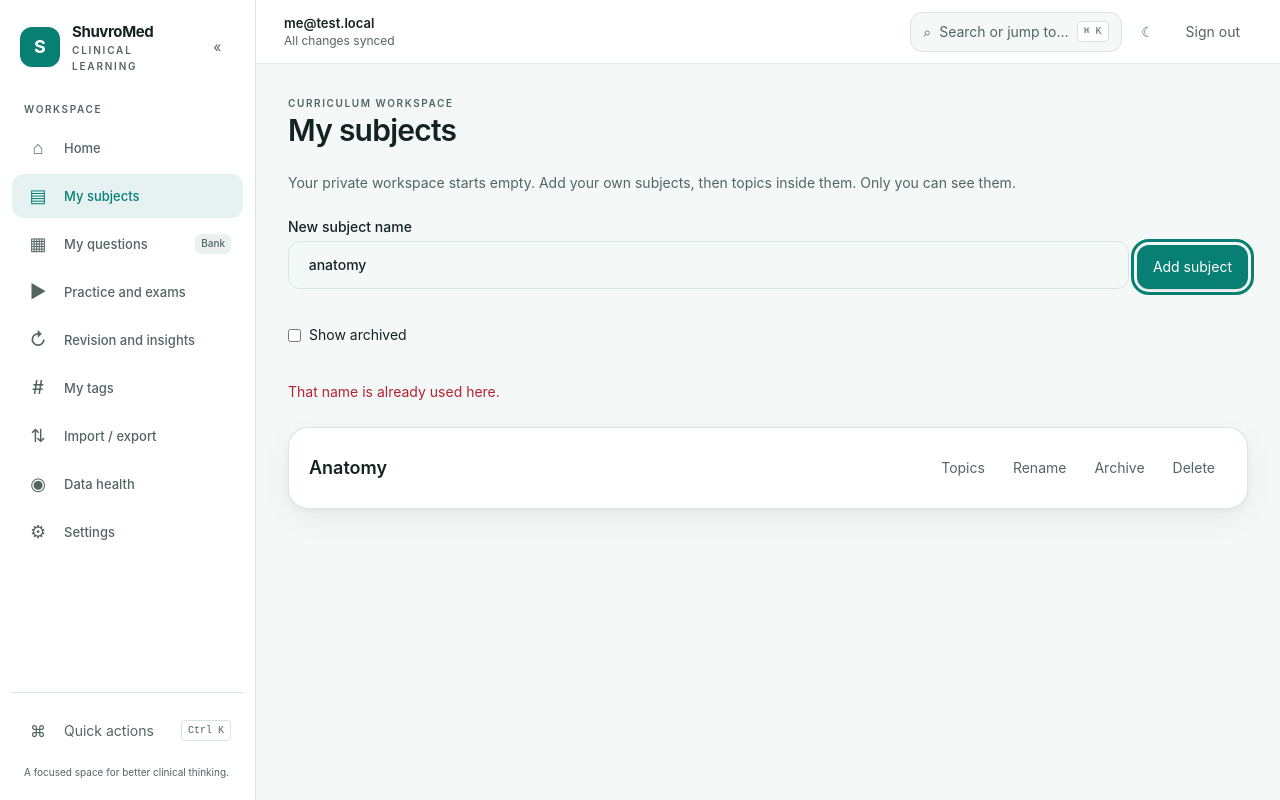
My subjects page › adds, renames, archives and deletes a subject; rejects duplicates
This screenshot has width=1280, height=800.
Earlier steps of the test are not shown.
Expected: the message "That name is already used here." is shown, [288,383,500,400]
Click the button with aria-label "Rename Anatomy" at coordinates (1040, 468), box [1001,448,1078,488]
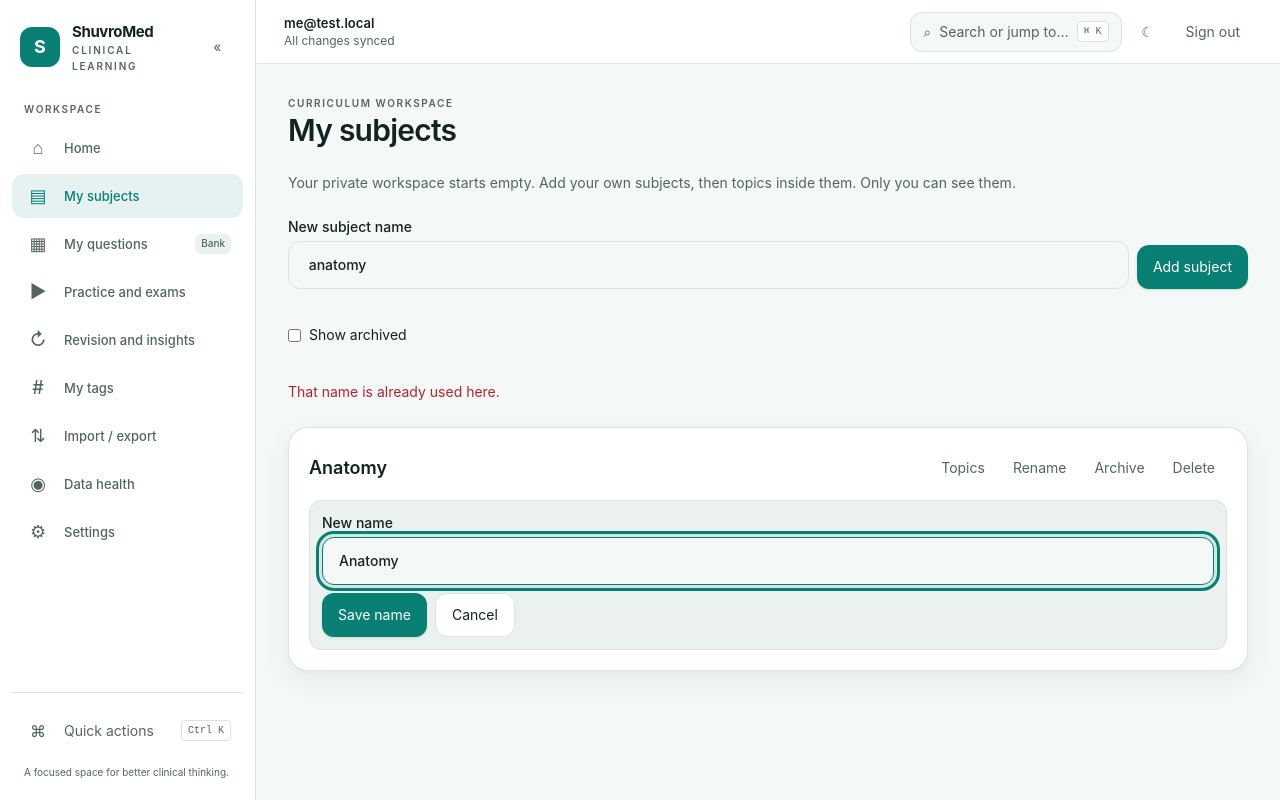
Replace the text in the field labelled "New name" with "Gross Anatomy" at coordinates (768, 561), box [322,537,1214,585]
Click the button "Save name" at coordinates (374, 615), box [322,593,427,637]
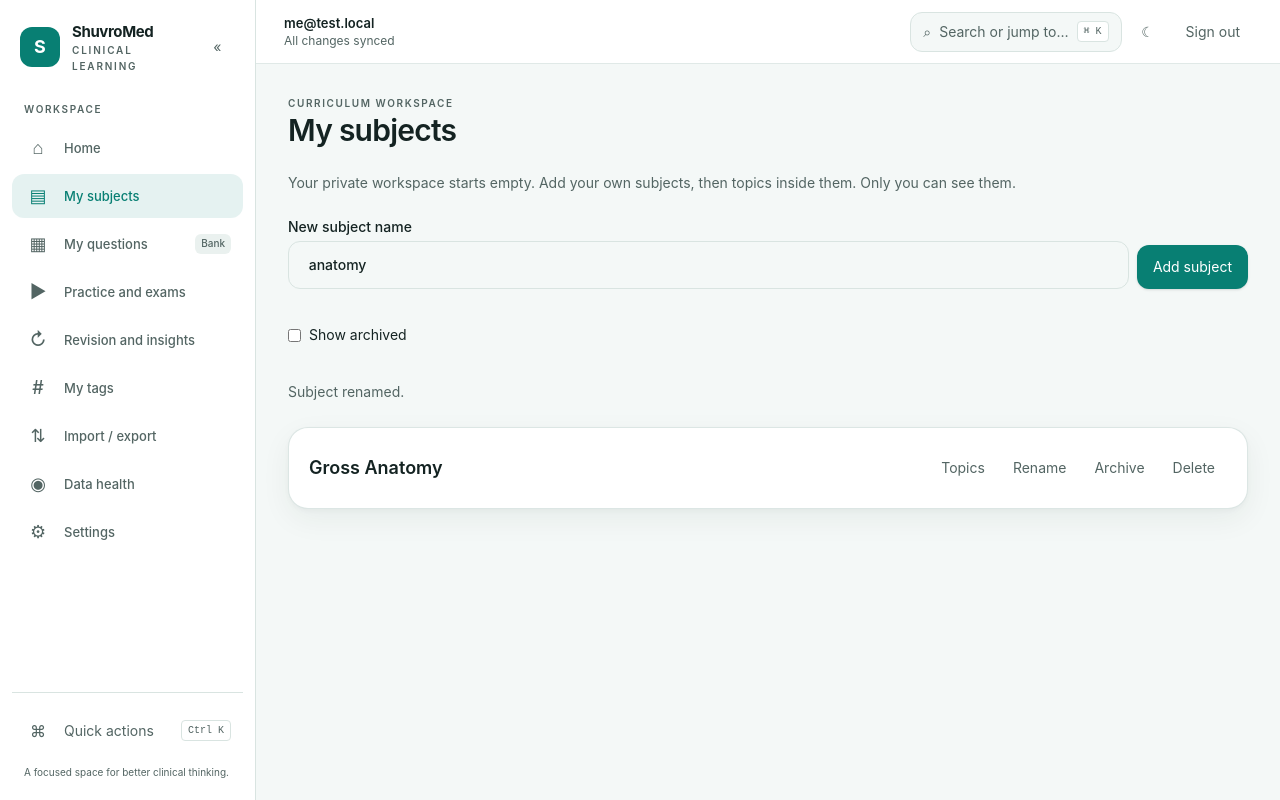
Expected: the heading "Gross Anatomy" is shown, [309,454,443,482]
Click the button with aria-label "Archive Gross Anatomy" at coordinates (1119, 468), box [1082,448,1156,488]
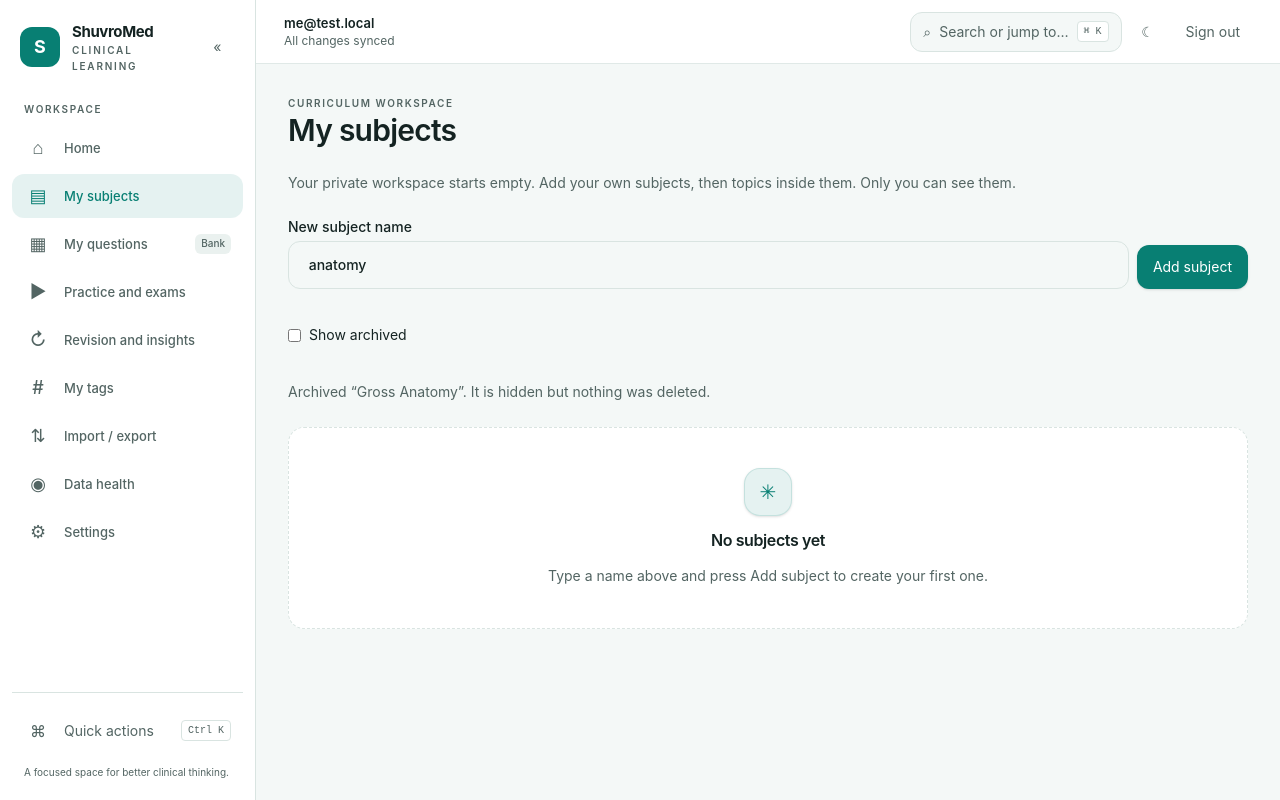
Click the checkbox labelled "Show archived" at coordinates (294, 335), box [288,329,301,342]
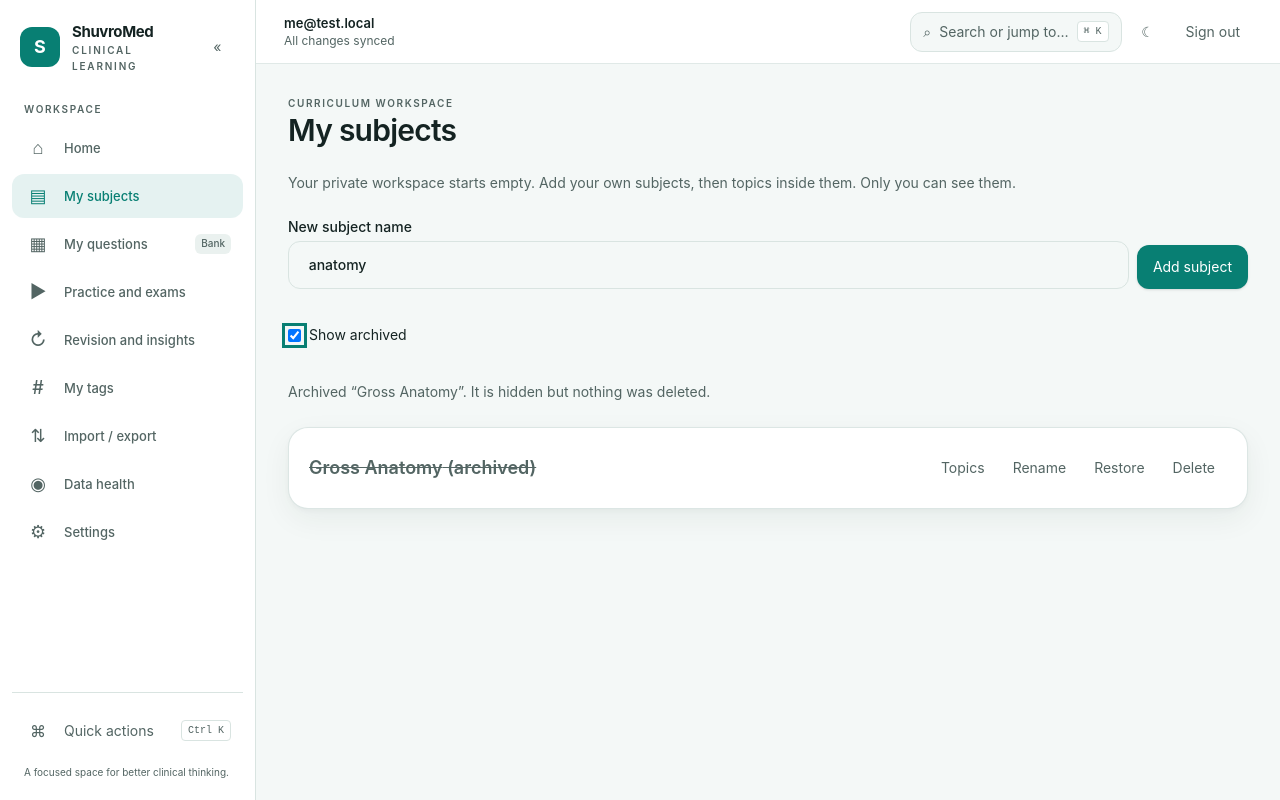
Expected: the heading "Gross Anatomy (archived)" is shown, [309,454,536,482]
Click the button with aria-label "Delete Gross Anatomy" at coordinates (1194, 468), box [1161,448,1227,488]
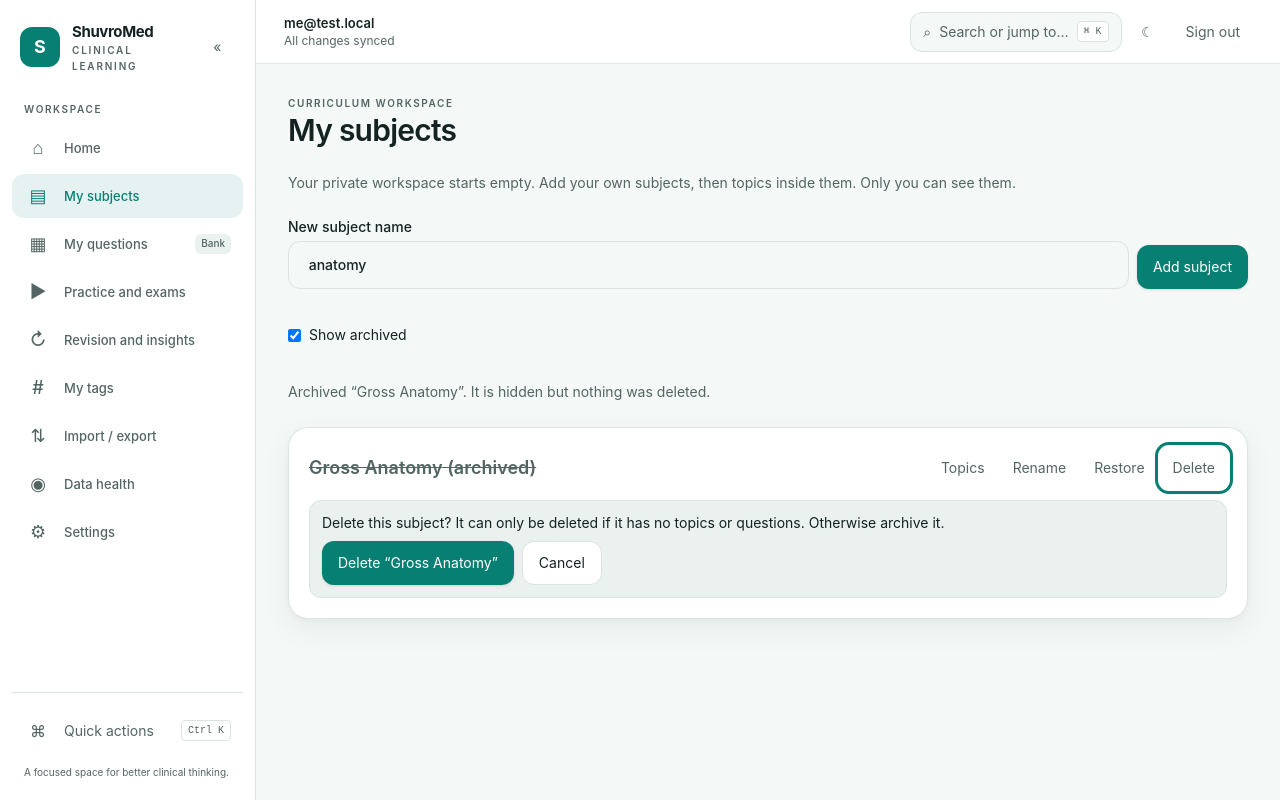
Click the button "Delete “Gross Anatomy”" at coordinates (418, 563), box [322,541,514,585]
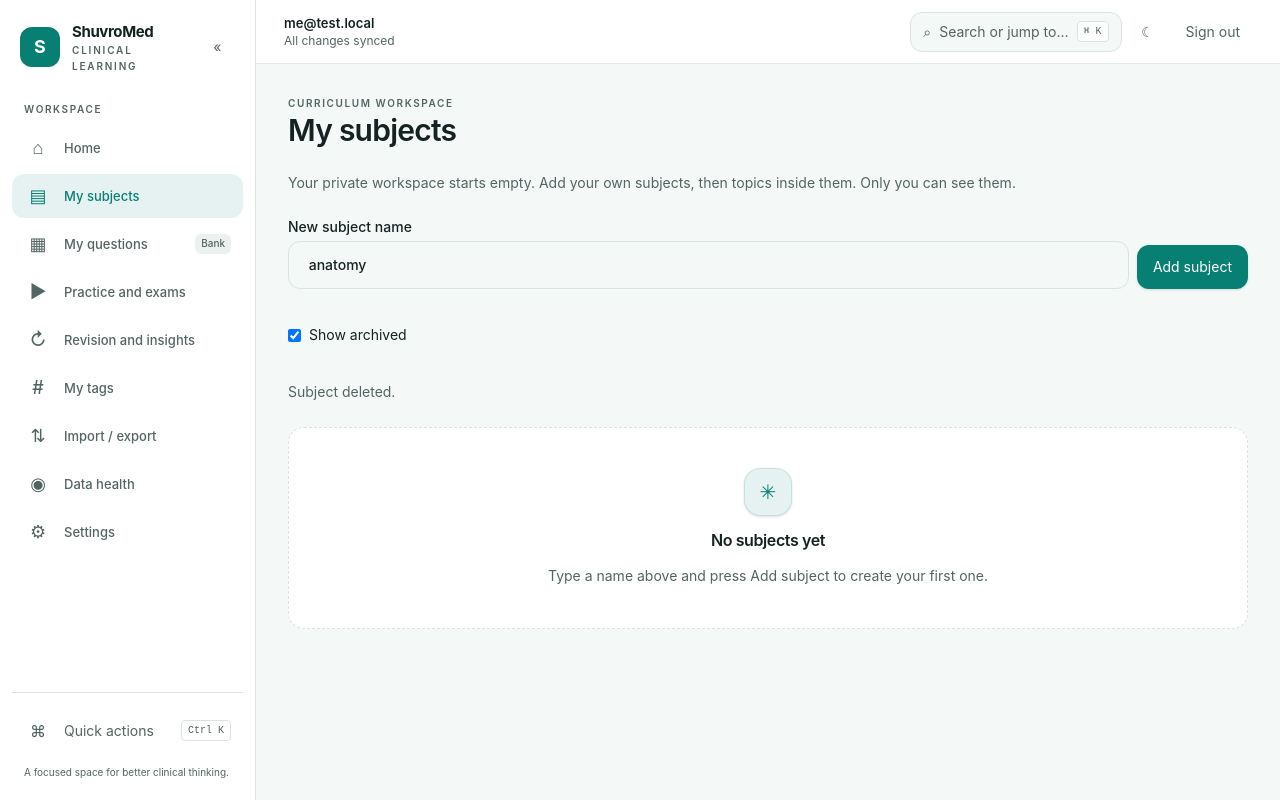
Expected: the heading "No subjects yet" is shown, [711,528,825,552]
